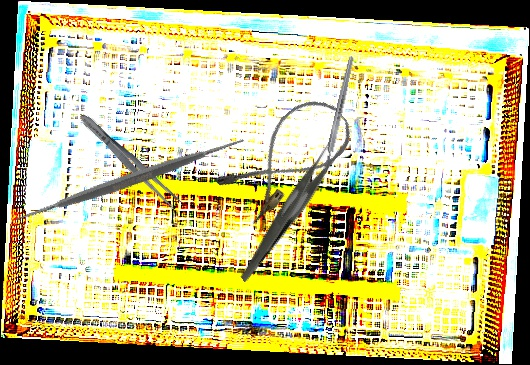Cannula: (212, 87, 361, 227)
Dressing Forceps: (204, 128, 379, 283), (75, 108, 184, 213)
Scalpel Handle: (321, 55, 356, 174)
Spatula Surgical: (4, 53, 255, 306)
